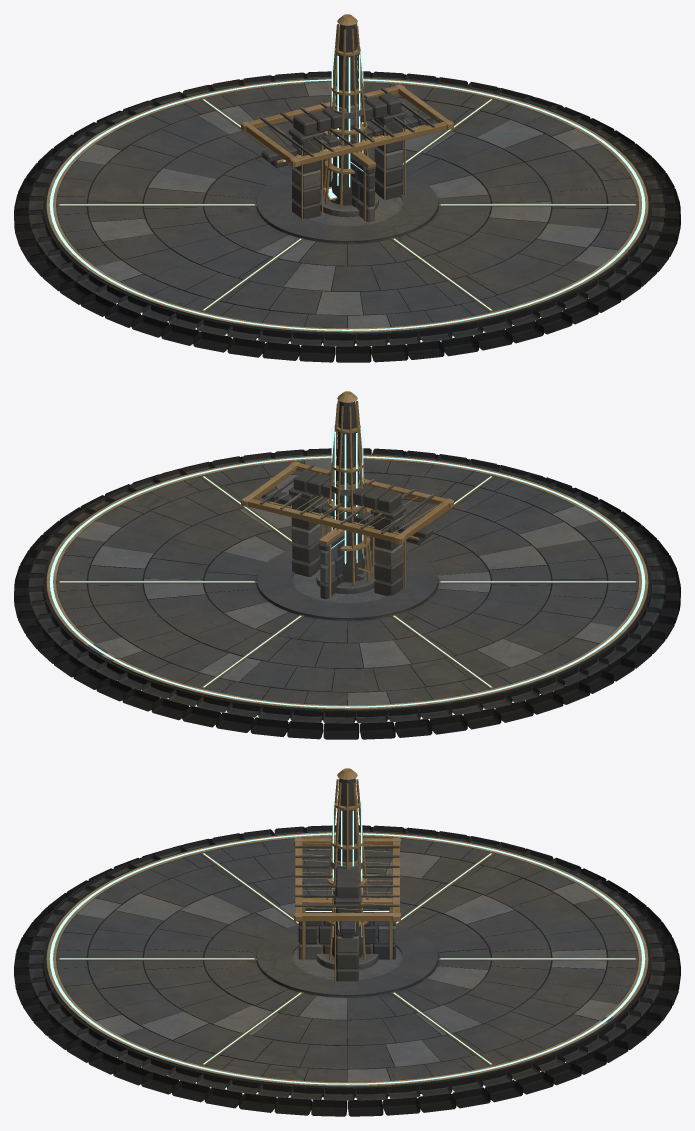
File: sanctum_arch.glb
3 renders of one model, top to bottom at view 1: azimuth 30°, elevation 25°; view 2: azimuth 150°, elevation 25°; view 3: azimuth 270°, elevation 25°, orthographic.
Visible parts, largest first — view 1: SA_Deck, SA_Arch, SA_Deck_Channel, SA_Beacon, SA_HallCanopy, SA_HallWall, SA_HallLintel, SA_Beacon_Channel; view 2: SA_Deck, SA_Arch, SA_Beacon, SA_Deck_Channel, SA_HallCanopy, SA_HallWall, SA_HallLintel, SA_Beacon_Channel; view 3: SA_Deck, SA_Deck_Channel, SA_HallCanopy, SA_Beacon, SA_HallWall, SA_Arch, SA_Beacon_Channel.
Boxes of the visible parts, bbox=[...] form: SA_Deck: bbox=[14, 71, 680, 362]; SA_Arch: bbox=[288, 93, 406, 219]; SA_Deck_Channel: bbox=[49, 79, 645, 330]; SA_Beacon: bbox=[319, 14, 378, 217]; SA_HallCanopy: bbox=[241, 84, 453, 167]; SA_HallWall: bbox=[320, 131, 375, 222]; SA_HallLintel: bbox=[261, 112, 433, 167]; SA_Beacon_Channel: bbox=[331, 47, 363, 187]; SA_Deck: bbox=[14, 448, 680, 739]; SA_Arch: bbox=[288, 470, 406, 595]; SA_Beacon: bbox=[316, 391, 375, 594]; SA_Deck_Channel: bbox=[49, 456, 645, 707]; SA_HallCanopy: bbox=[241, 461, 453, 544]; SA_HallWall: bbox=[319, 507, 374, 599]; SA_HallLintel: bbox=[261, 489, 433, 544]; SA_Beacon_Channel: bbox=[331, 424, 363, 564]; SA_Deck: bbox=[14, 825, 680, 1116]; SA_Deck_Channel: bbox=[49, 833, 645, 1084]; SA_HallCanopy: bbox=[294, 838, 400, 921]; SA_Beacon: bbox=[316, 768, 378, 969]; SA_HallWall: bbox=[298, 898, 396, 960]; SA_Arch: bbox=[334, 850, 360, 981]; SA_Beacon_Channel: bbox=[332, 802, 362, 936].
Bounding box in the file's own units: 28.71 × 9.8 × 28.72.
Materials: 3 (1 with a texture image).
